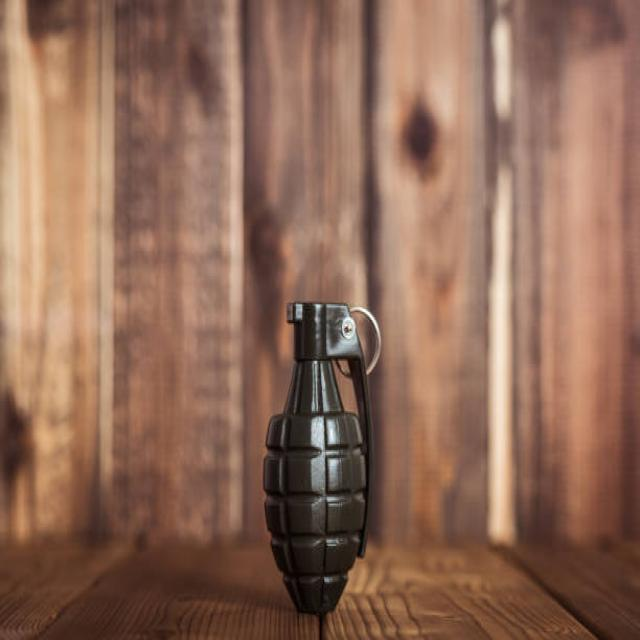grenade: (259, 291, 390, 616)
